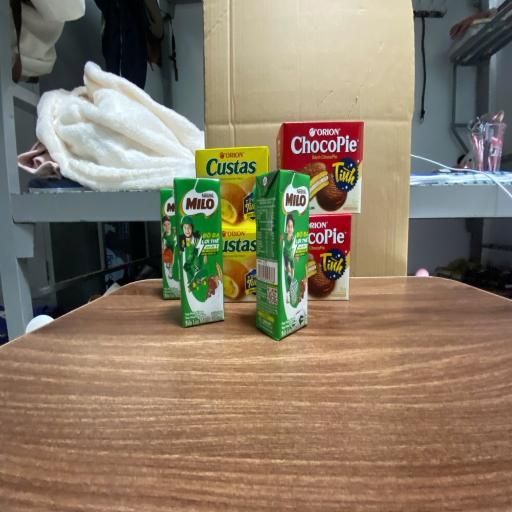chocopie: (277, 120, 364, 213), (307, 213, 352, 301)
custas: (195, 146, 269, 225), (221, 224, 256, 302)
milo: (254, 168, 309, 342), (173, 177, 225, 329), (160, 189, 181, 300)
